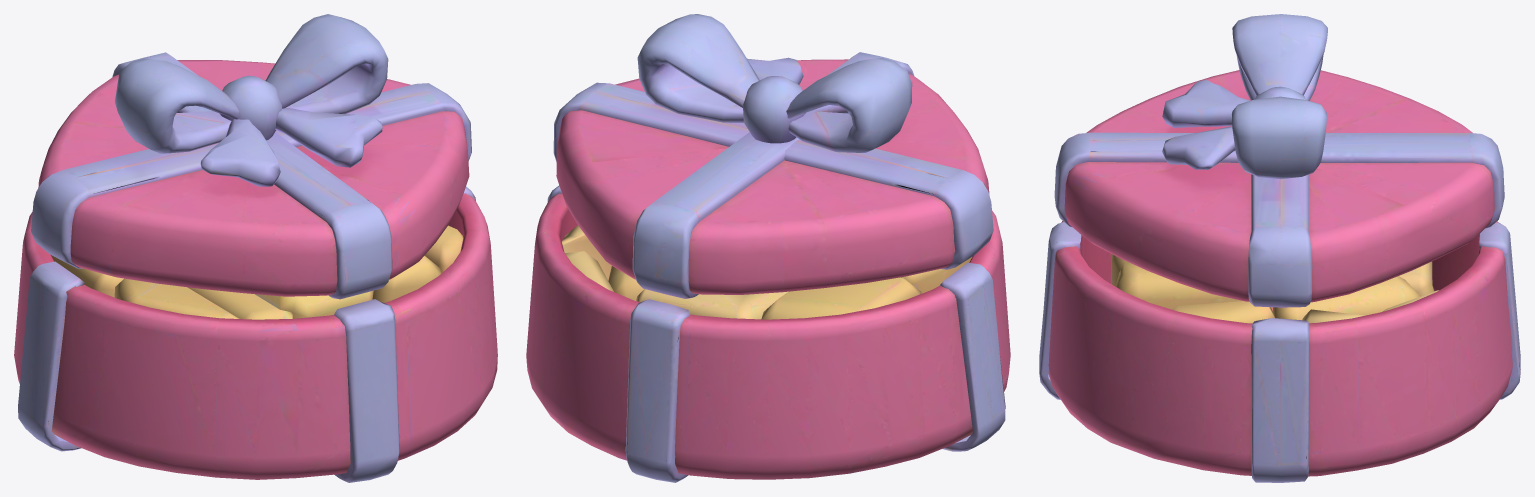
File: gift-heartbox.glb
3 renders of one model, left to right at view 1: azimuth 30°, elevation 25°; view 2: azimuth 150°, elevation 25°; view 3: azimuth 270°, elevation 25°, orthographic. The views are drawn at different scales.
Parts seen in each view (by area): view 1: geometry_0; view 2: geometry_0; view 3: geometry_0.
Part boxes in pixels (bbox=[...]): geometry_0: bbox=[14, 14, 497, 482]; geometry_0: bbox=[526, 14, 1010, 482]; geometry_0: bbox=[1039, 14, 1520, 482].
Size of the model in its own units: 1 by 0.7653 by 1.
1 material, 1 textured.
